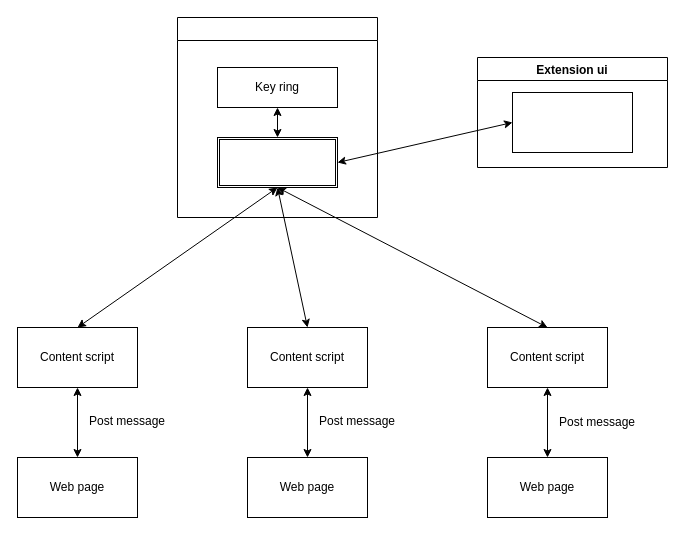
Some shapes in this 685 by 535 pixel diagram are drawn without their labels. Here are the shapes that lost their labels. From the top down, the box of each, then its label:
(176, 16, 378, 218): Background
(512, 92, 632, 152): Pop up
(216, 136, 338, 188): Message Manager
